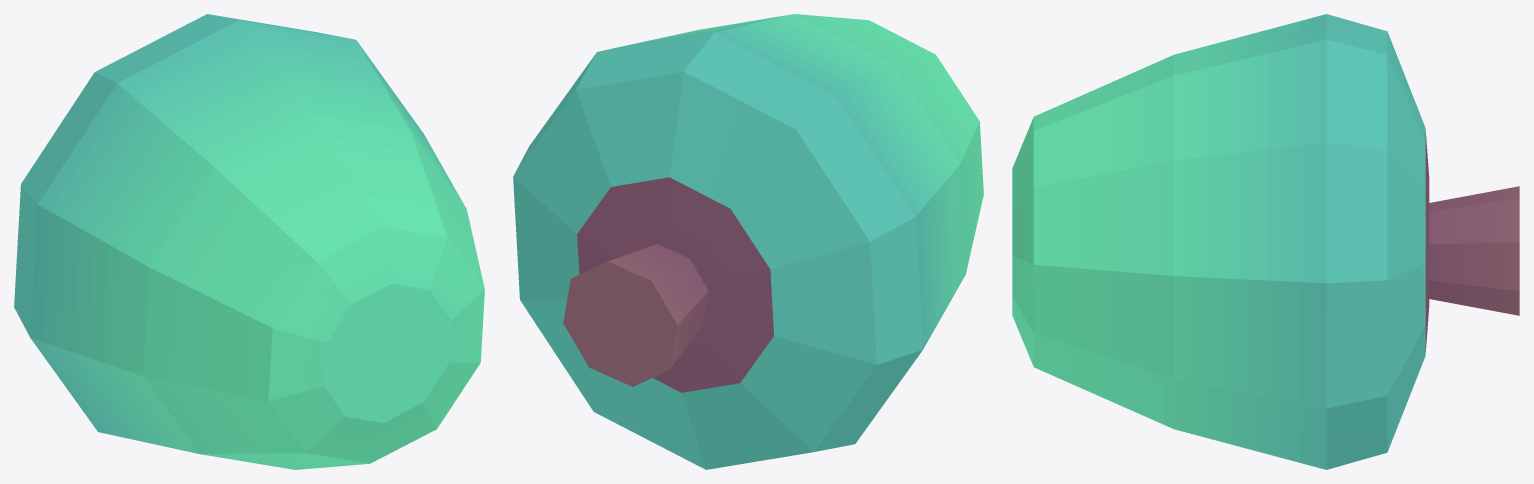
The model's file is tree3.glb.
3 renders of one model, left to right at view 1: azimuth 30°, elevation 25°; view 2: azimuth 150°, elevation 25°; view 3: azimuth 270°, elevation 25°, orthographic. The views are drawn at different scales.
Parts seen in each view (by area): view 1: Object_30; view 2: Object_30; view 3: Object_30.
Part boxes in pixels (left/top/right/bottom): Object_30: left=14, top=14, right=484, bottom=469; Object_30: left=513, top=14, right=983, bottom=469; Object_30: left=1012, top=14, right=1519, bottom=469.
Bounding box in the file's own units: 5.91 × 6.1 × 6.73.
1 material, 1 textured.
